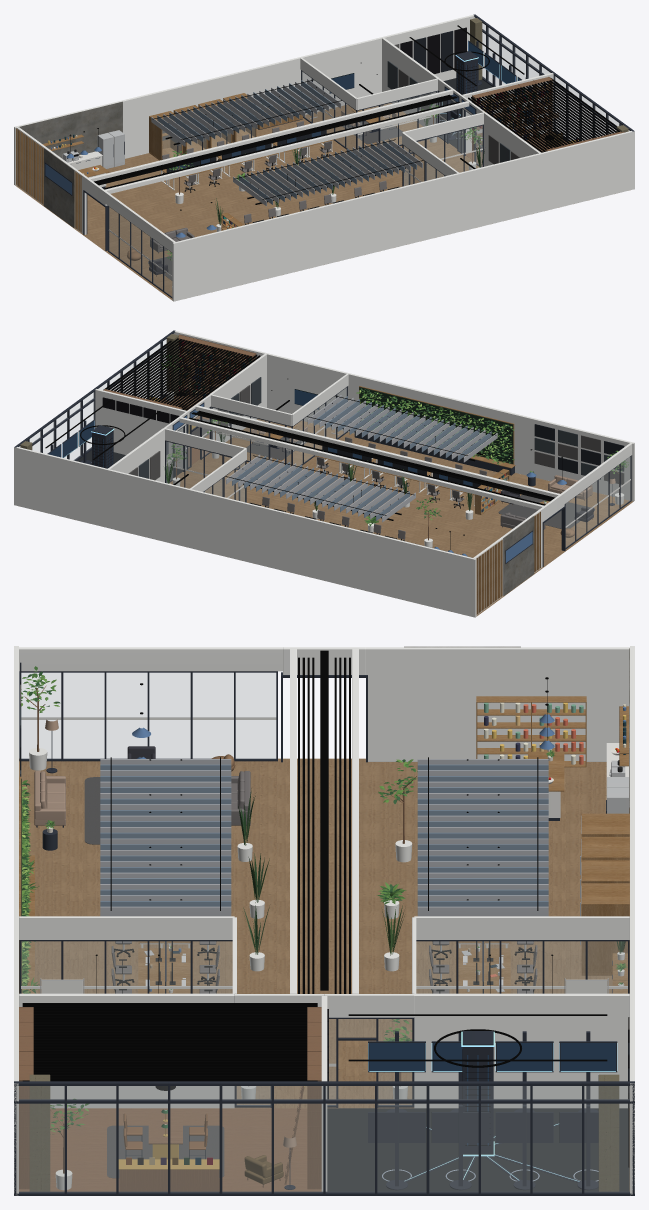
Rendered from wing-nordic.glb.
The picture shows the model from 3 angles, top to bottom: view 1: azimuth 30°, elevation 25°; view 2: azimuth 150°, elevation 25°; view 3: azimuth 270°, elevation 25°; orthographic projection. The views are drawn at different scales.
Parts seen in each view (by area): view 1: wing-nordic-baked-paint-wall, wing-nordic-baked-floor, wing-nordic-ceiling-felt, wing-nordic-glass-glass, wing-nordic-ceiling-wood, wing-nordic-baked-metal-dark, wing-nordic-baked-wood, wing-nordic-baked-plaster-accent, wing-nordic-baked-felt, wing-nordic-ceiling-ceiling, wing-nordic-baked-fabric, wing-nordic-baked-wood-dark (+8 smaller); view 2: wing-nordic-baked-paint-wall, wing-nordic-baked-floor, wing-nordic-ceiling-felt, wing-nordic-glass-glass, wing-nordic-ceiling-wood, wing-nordic-baked-felt, wing-nordic-baked-metal-dark, wing-nordic-baked-paint, wing-nordic-ceiling-ceiling, wing-nordic-baked-wood, wing-nordic-baked-foliage, wing-nordic-baked-fabric (+7 smaller); view 3: wing-nordic-glass-glass, wing-nordic-baked-paint-wall, wing-nordic-baked-floor, wing-nordic-ceiling-felt, wing-nordic-baked-metal-dark, wing-nordic-ceiling-wood, wing-nordic-baked-wood-dark, wing-nordic-baked-paint, wing-nordic-baked-wood, wing-nordic-baked-fabric, wing-nordic-baked-foliage, wing-nordic-baked-gloss (+14 smaller).
Boxes of the visible parts, left/top/right/bottom form: wing-nordic-baked-paint-wall: left=14, top=15, right=634, bottom=301; wing-nordic-baked-floor: left=15, top=103, right=479, bottom=300; wing-nordic-ceiling-felt: left=151, top=79, right=422, bottom=206; wing-nordic-glass-glass: left=104, top=23, right=621, bottom=296; wing-nordic-ceiling-wood: left=94, top=78, right=619, bottom=189; wing-nordic-baked-metal-dark: left=45, top=14, right=634, bottom=298; wing-nordic-baked-wood: left=16, top=93, right=385, bottom=232; wing-nordic-baked-plaster-accent: left=18, top=101, right=122, bottom=227; wing-nordic-baked-felt: left=148, top=27, right=520, bottom=280; wing-nordic-ceiling-ceiling: left=89, top=89, right=469, bottom=193; wing-nordic-baked-fabric: left=127, top=104, right=558, bottom=275; wing-nordic-baked-wood-dark: left=150, top=76, right=624, bottom=276; wing-nordic-baked-paint-wall: left=14, top=331, right=634, bottom=617; wing-nordic-baked-floor: left=169, top=419, right=633, bottom=616; wing-nordic-ceiling-felt: left=226, top=395, right=497, bottom=522; wing-nordic-glass-glass: left=27, top=339, right=630, bottom=547; wing-nordic-ceiling-wood: left=103, top=338, right=554, bottom=505; wing-nordic-baked-felt: left=102, top=377, right=624, bottom=528; wing-nordic-baked-metal-dark: left=14, top=330, right=631, bottom=566; wing-nordic-baked-paint: left=77, top=339, right=535, bottom=540; wing-nordic-ceiling-ceiling: left=179, top=405, right=559, bottom=509; wing-nordic-baked-wood: left=263, top=386, right=549, bottom=614; wing-nordic-baked-foliage: left=161, top=355, right=628, bottom=526; wing-nordic-baked-fabric: left=179, top=403, right=615, bottom=539; wing-nordic-glass-glass: left=19, top=673, right=629, bottom=1192; wing-nordic-baked-paint-wall: left=14, top=646, right=634, bottom=1195; wing-nordic-baked-floor: left=19, top=758, right=629, bottom=1191; wing-nordic-ceiling-felt: left=100, top=759, right=548, bottom=916; wing-nordic-baked-metal-dark: left=14, top=671, right=634, bottom=1195; wing-nordic-ceiling-wood: left=22, top=657, right=350, bottom=1081; wing-nordic-baked-wood-dark: left=19, top=685, right=416, bottom=1191; wing-nordic-baked-paint: left=21, top=778, right=629, bottom=1191; wing-nordic-baked-wood: left=19, top=696, right=629, bottom=993; wing-nordic-baked-fabric: left=34, top=719, right=537, bottom=1149; wing-nordic-baked-foliage: left=21, top=666, right=627, bottom=1134; wing-nordic-baked-gloss: left=29, top=702, right=626, bottom=1190.
Size of what is drawn, in the model's own units: 30 by 3.63 by 18.
28 materials, 9 textured.
